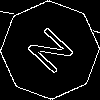N: (25, 25, 83, 83)
